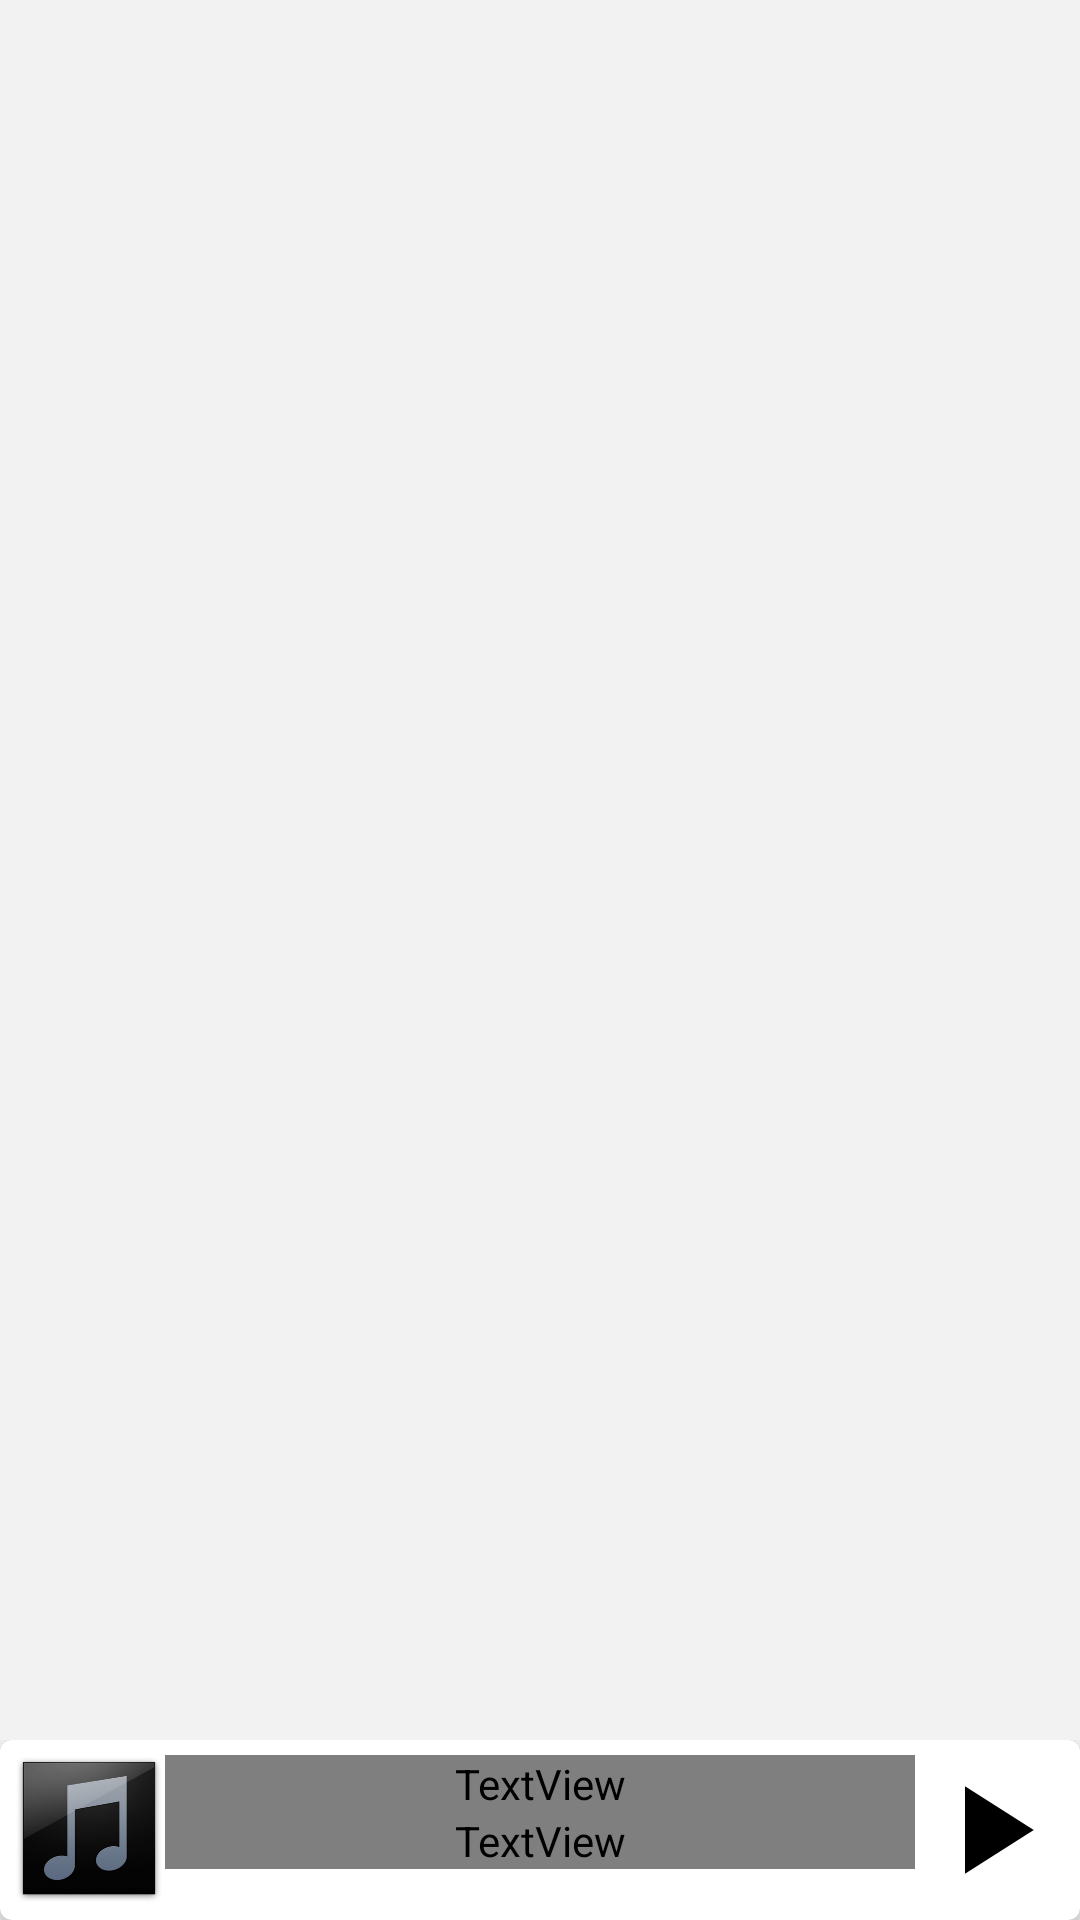

Named icons in this screenshot (1080px x 1920px) and their centers, [x,y]:
music: [89,1829]
play: [999,1830]
